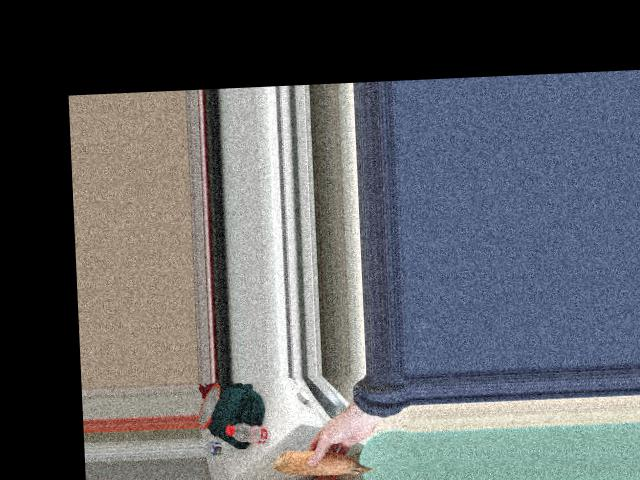sweet_potato: (281, 441, 370, 477)
